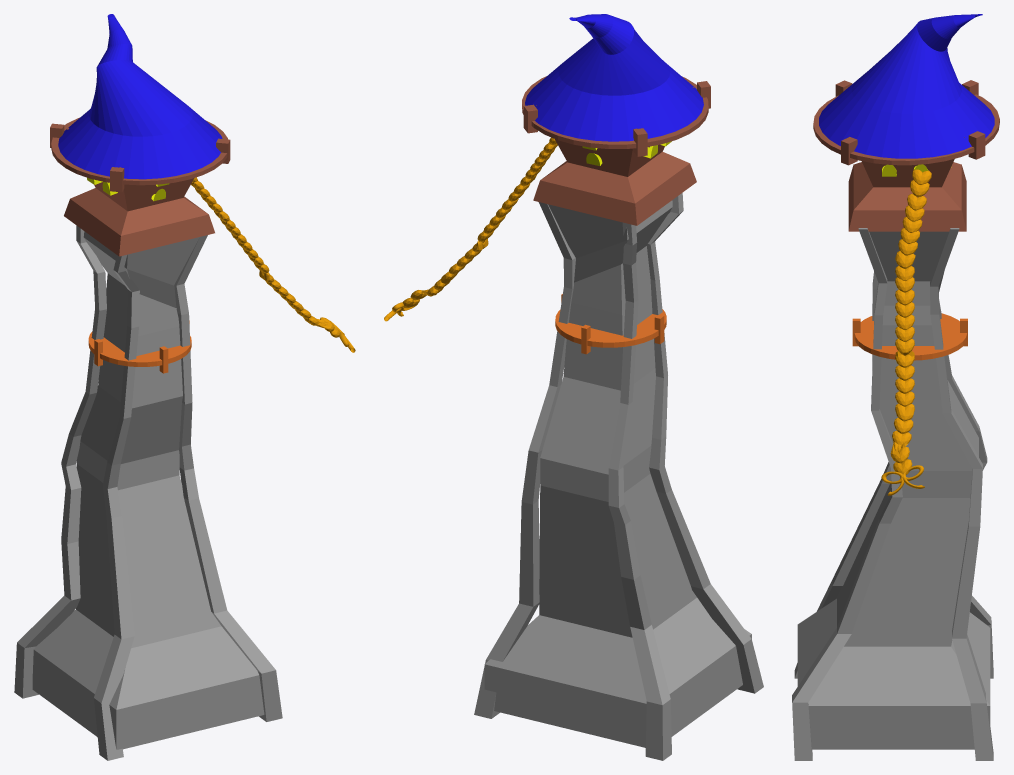
Rendered from SistersTower.fbx.
3 renders of one model, left to right at view 1: azimuth 30°, elevation 25°; view 2: azimuth 150°, elevation 25°; view 3: azimuth 270°, elevation 25°, orthographic. The views are drawn at different scales.
Visible parts, largest first — view 1: Cube.006, Cylinder, Cube.002, Cube.004, Icosphere, Cube.001; view 2: Cube.006, Cylinder, Cube.002, Cube.004, Icosphere, Cube.001; view 3: Cube.006, Cylinder, Cube.002, Icosphere, Cube.004, Cube.001.
Part boxes in pixels (x1,y1,x2,y2): Cube.006: (14,225,282,760); Cylinder: (58,14,222,179); Cube.002: (64,128,214,256); Cube.004: (50,117,230,192); Icosphere: (191,177,355,352); Cube.001: (88,320,191,373); Cube.006: (474,193,763,760); Cylinder: (525,14,703,141); Cube.002: (533,87,696,225); Cube.004: (522,76,710,156); Icosphere: (384,137,557,321); Cube.001: (555,294,666,354); Cube.006: (792,228,993,760); Cylinder: (819,14,994,158); Cube.002: (848,137,966,231); Icosphere: (881,169,931,495); Cube.004: (813,80,999,165); Cube.001: (852,313,967,360).
Size of the model in its own units: 3635 by 7854 by 2104.
